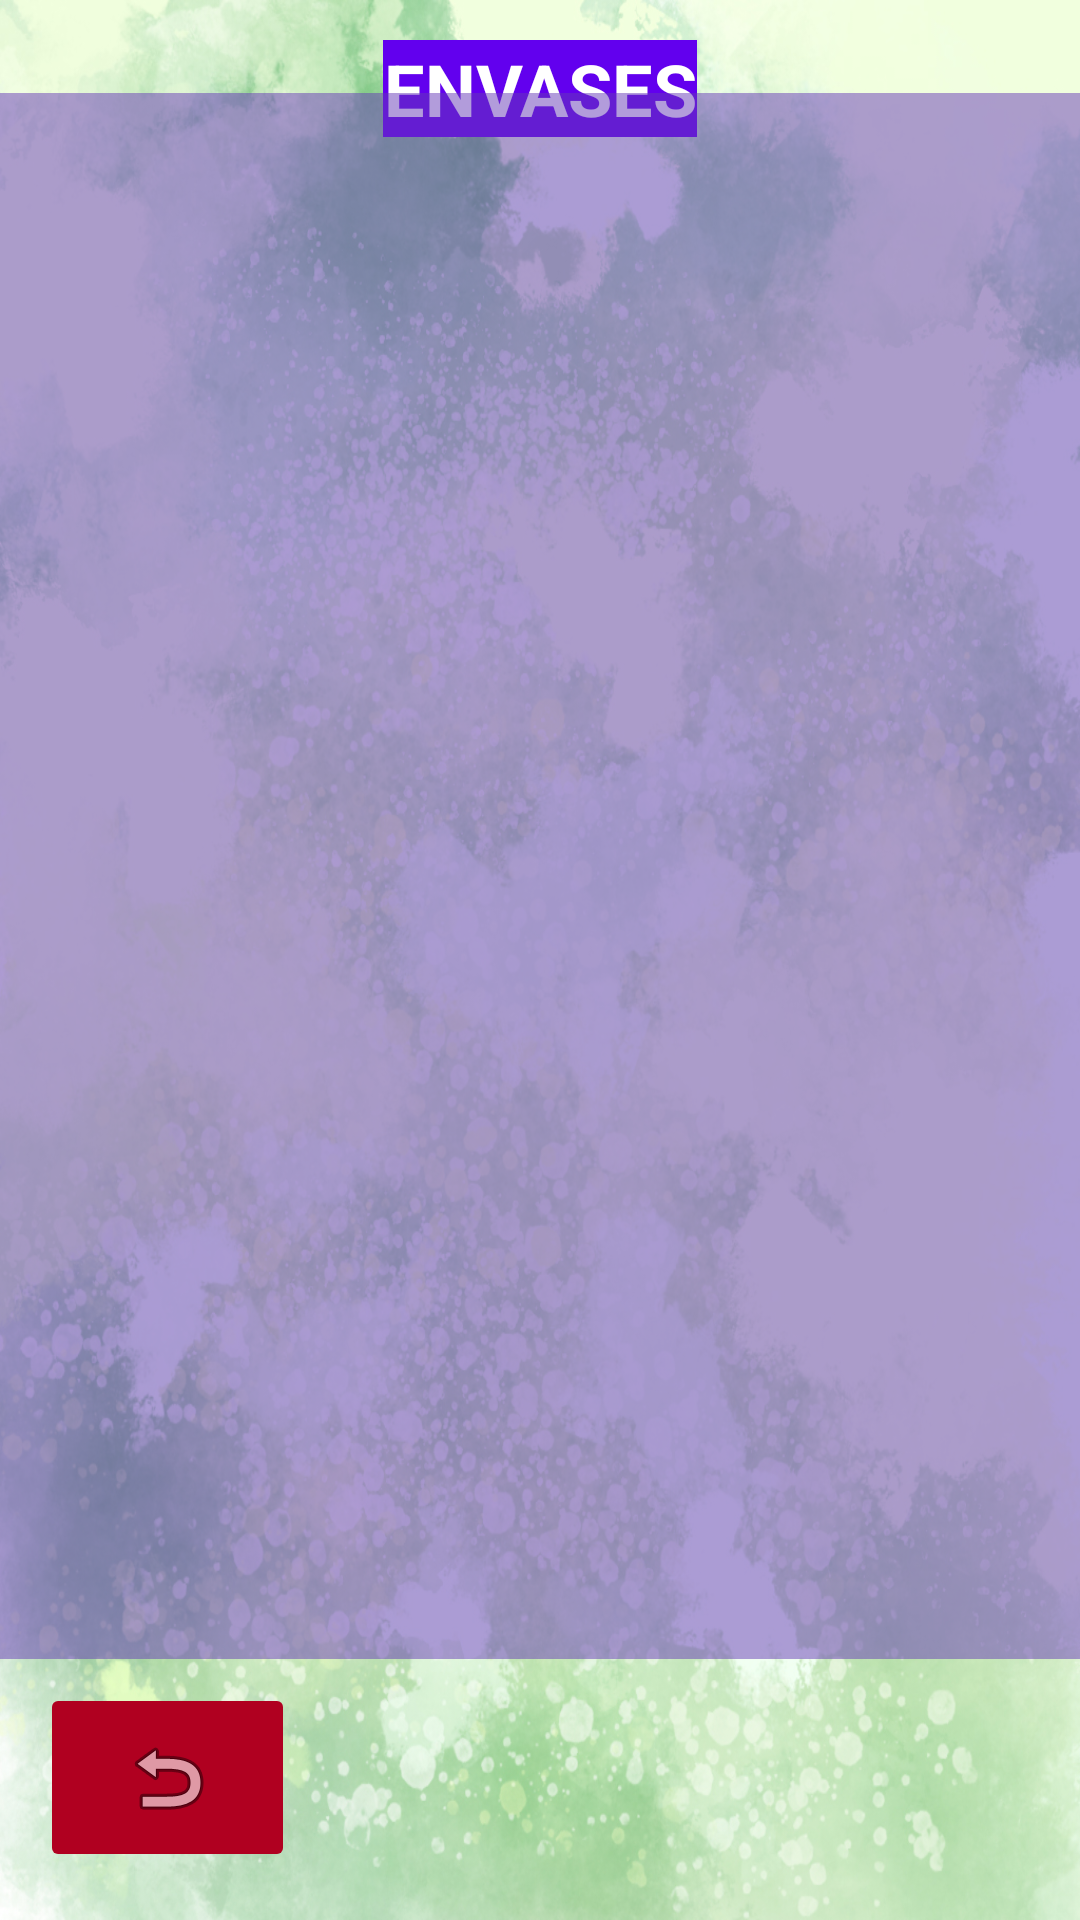

Point at icon controls on the screen. Image size 1080w x 1920h, points as (x=x, y=y).
Volver: (x=167, y=1777)
